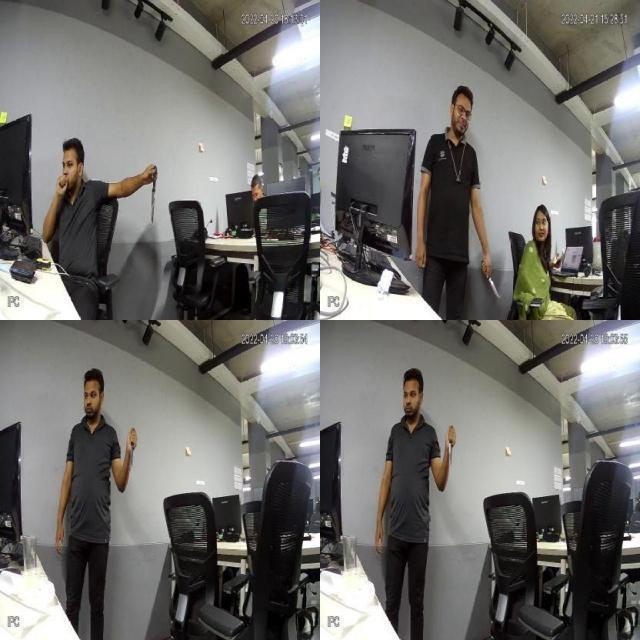-: (482, 269, 502, 302), (147, 179, 160, 223), (126, 433, 138, 470), (446, 435, 455, 465)
